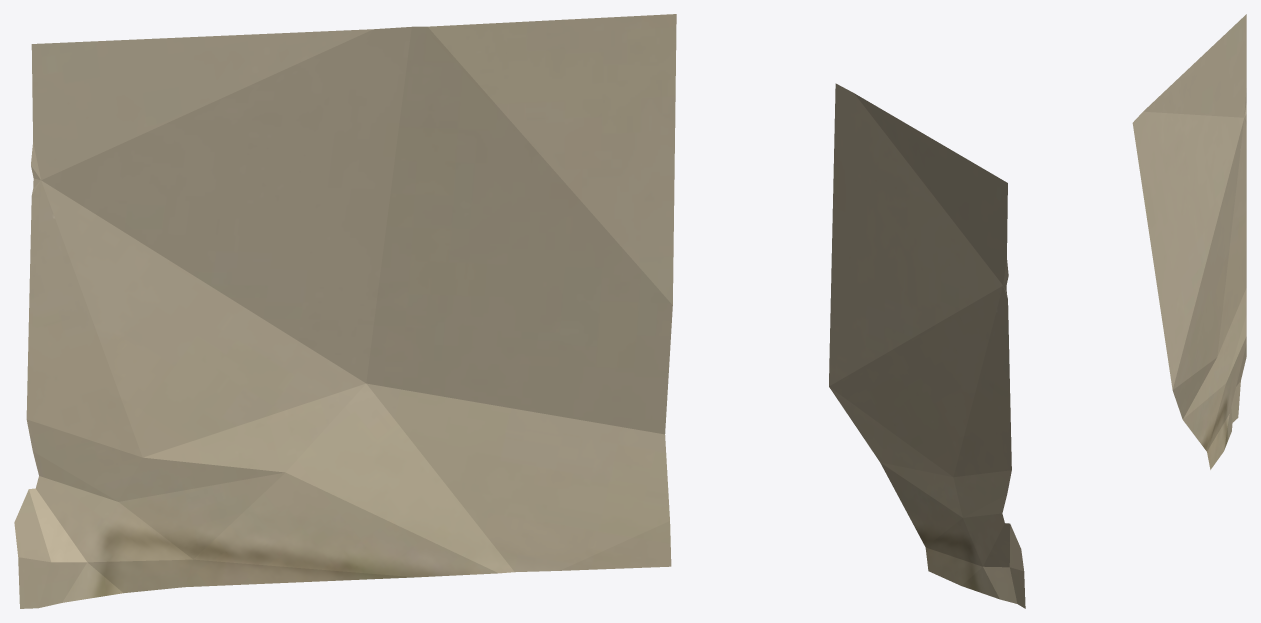
3 renders of one model, left to right at view 1: azimuth 30°, elevation 25°; view 2: azimuth 150°, elevation 25°; view 3: azimuth 270°, elevation 25°, orthographic. The views are drawn at different scales.
Size of the model in its own units: 0.8374 by 0.8374 by 0.3557.
3 materials, 3 textured.
